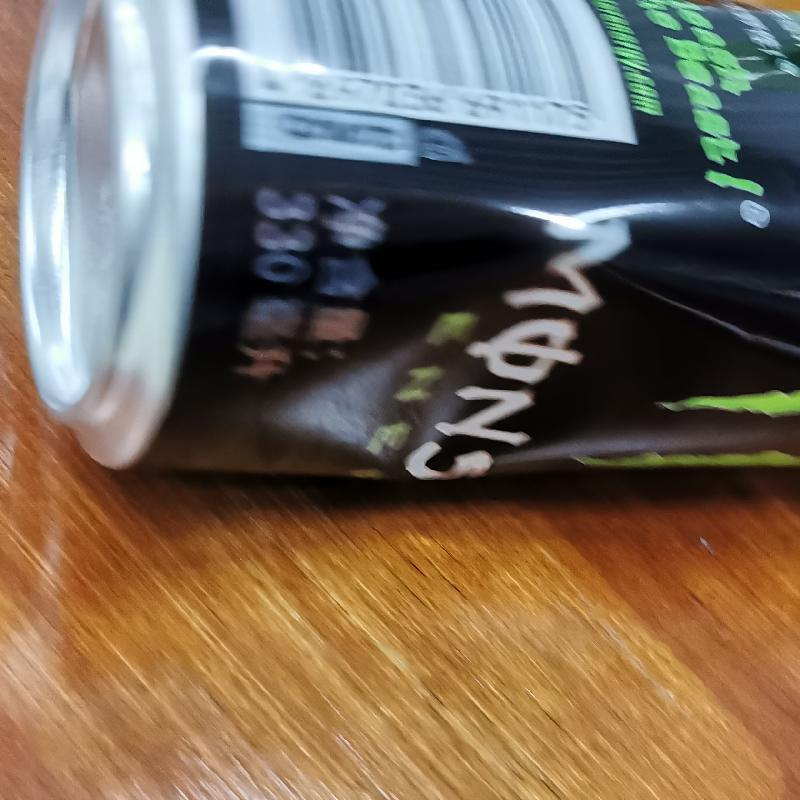cans: (19, 4, 800, 488)
